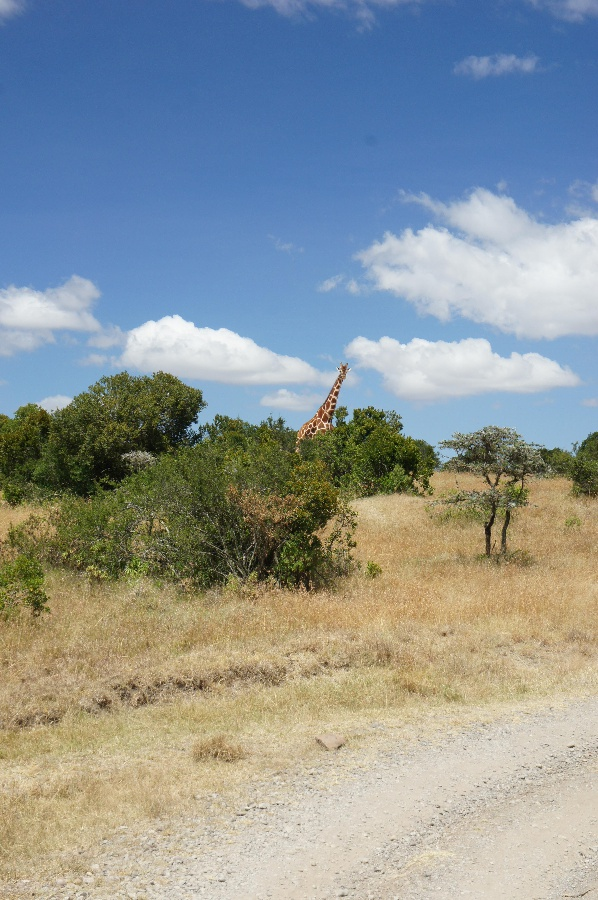giraffe: (294, 360, 357, 445)
